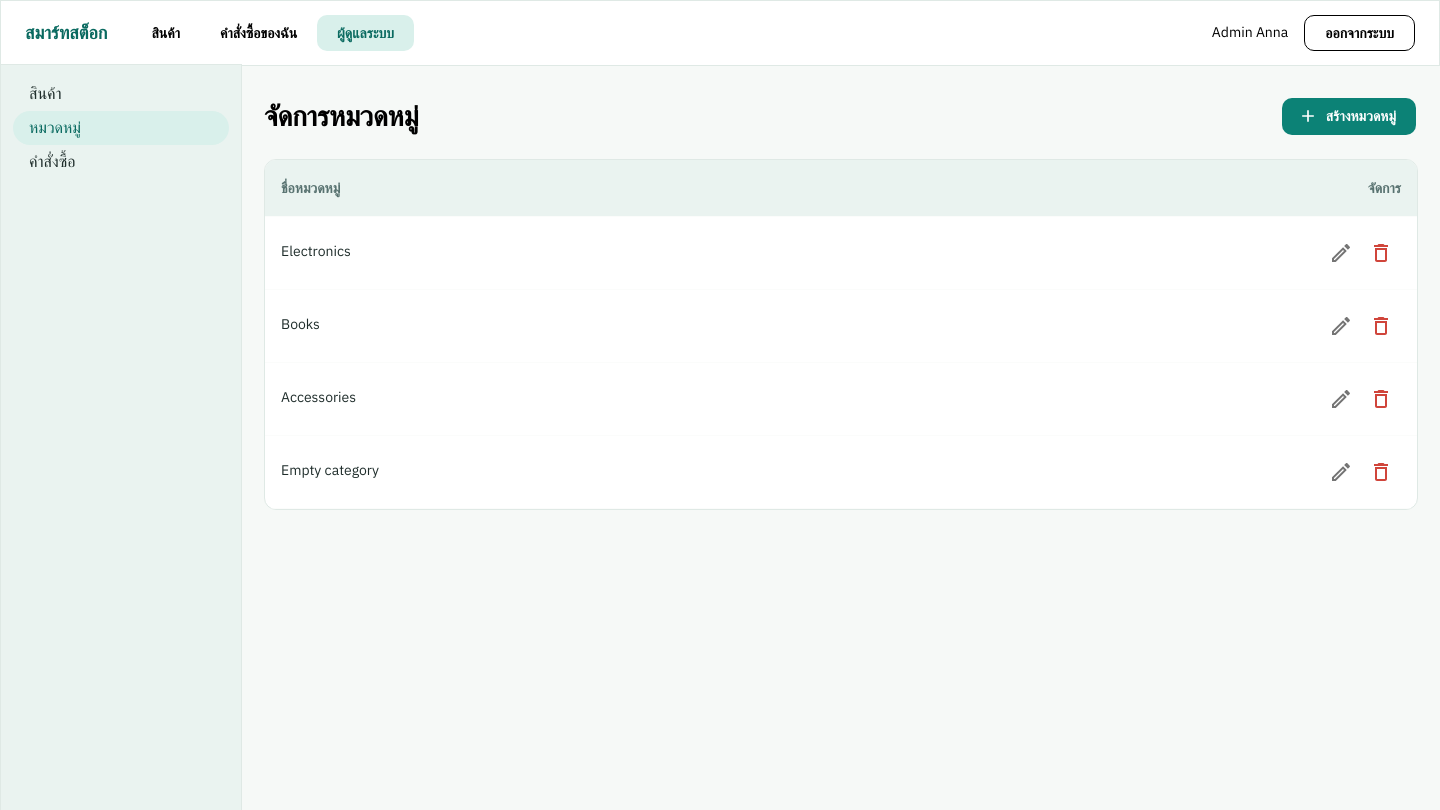
Scenario: deletes an empty category
The image size is (1440, 810).
Click the button named "ลบ Empty category" at (1381, 472), box top-left (1361, 452), bottom-right (1401, 492)
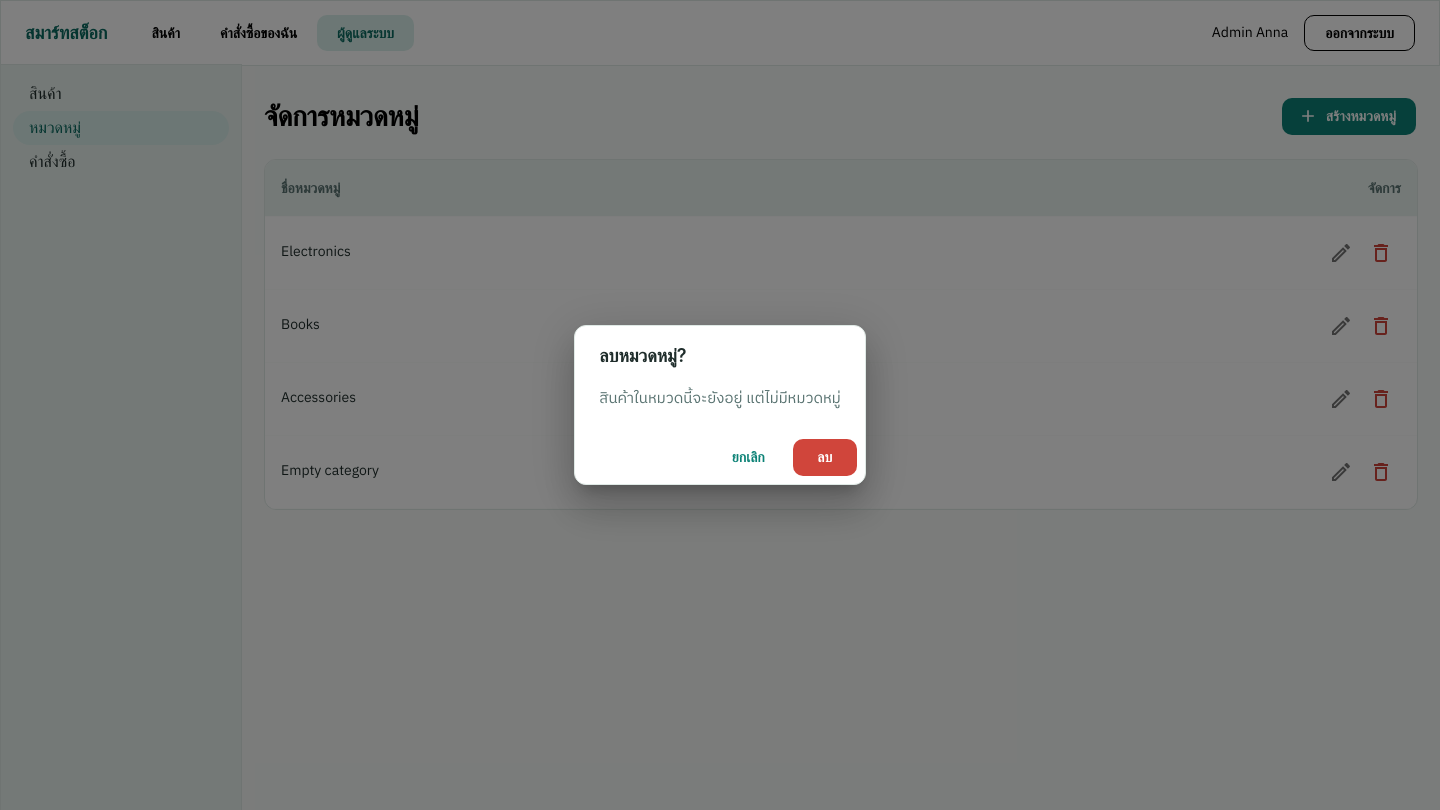
Click the button "ลบ" at (825, 457), box top-left (793, 439), bottom-right (857, 476)
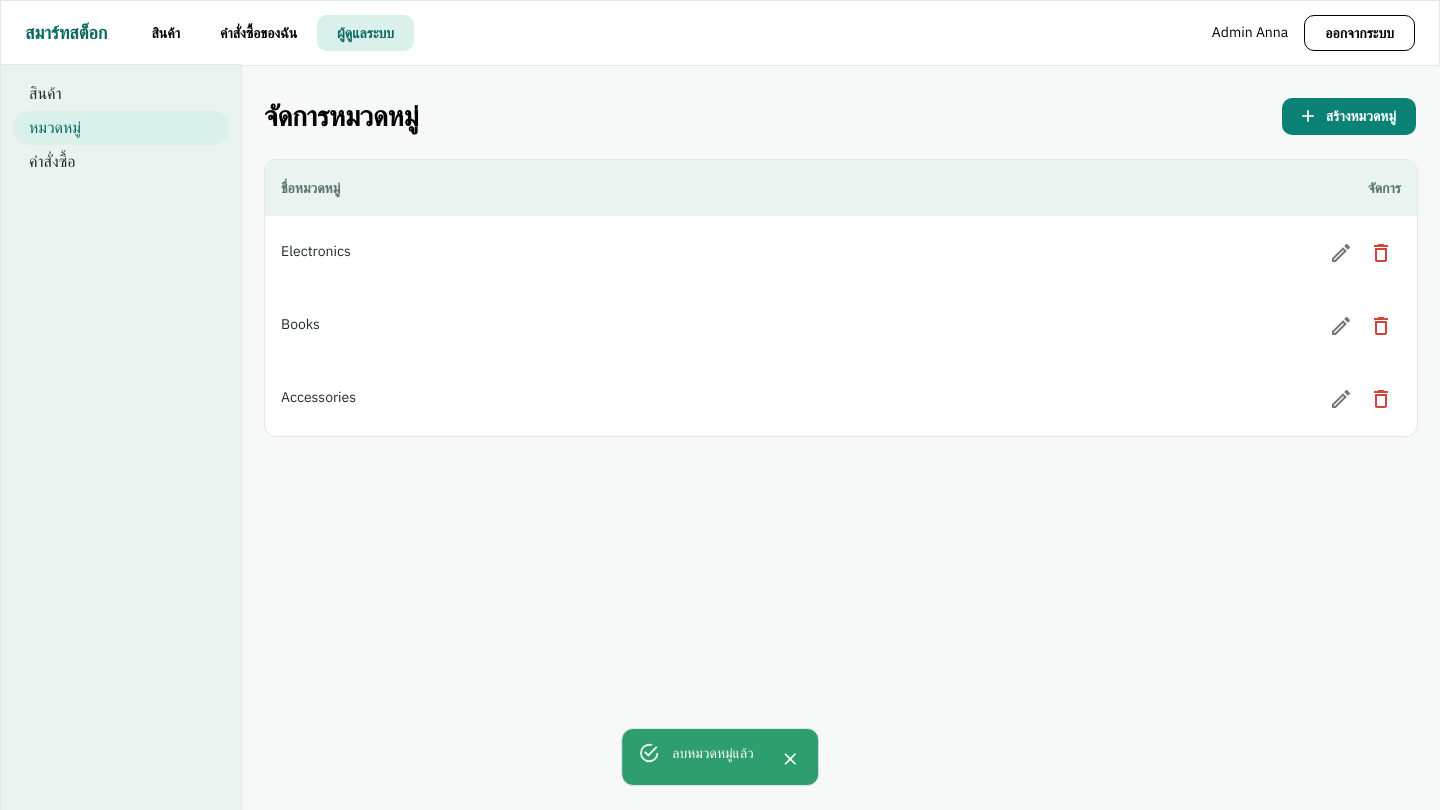
Now the text "ลบหมวดหมู่แล้ว" is shown, box top-left (672, 744), bottom-right (754, 761)
Now the text "Empty category" is gone
